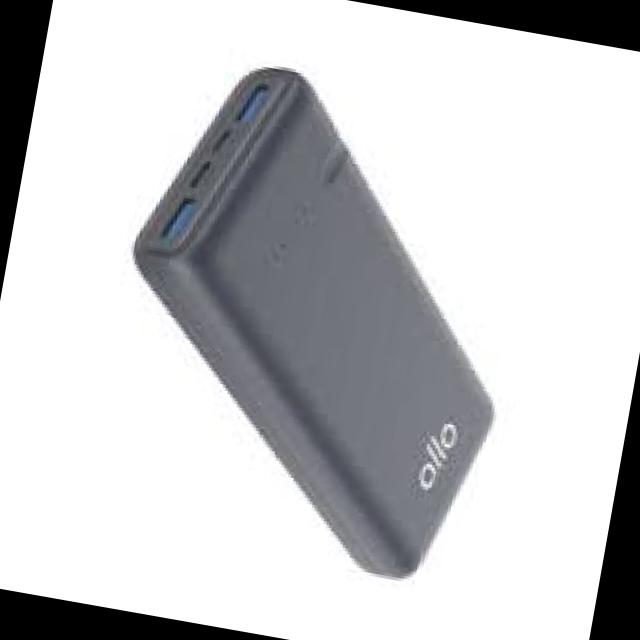portable-charger: (78, 43, 554, 600)
